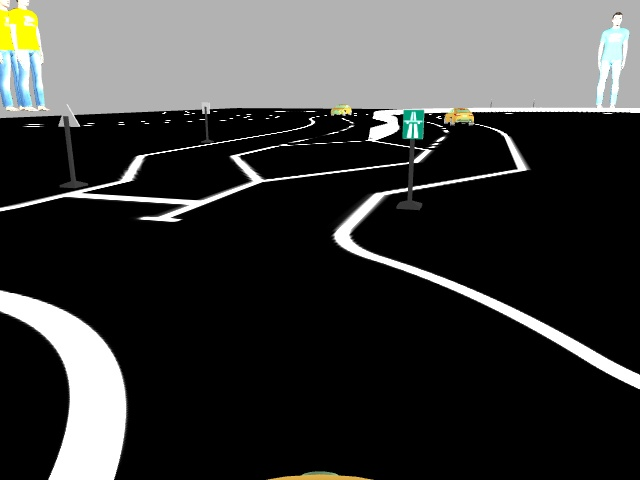HighwayEntrance: (400, 105, 425, 139)
